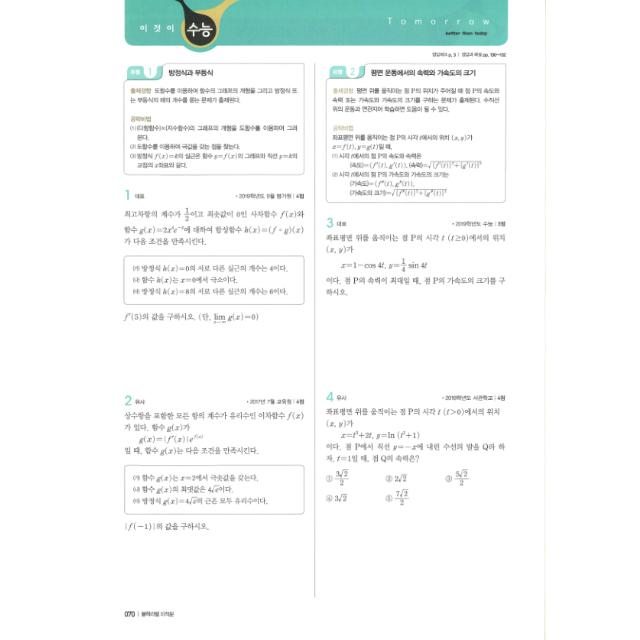multiple: (318, 383, 512, 511)
short: (114, 180, 310, 332), (115, 388, 311, 540), (318, 210, 510, 312)
